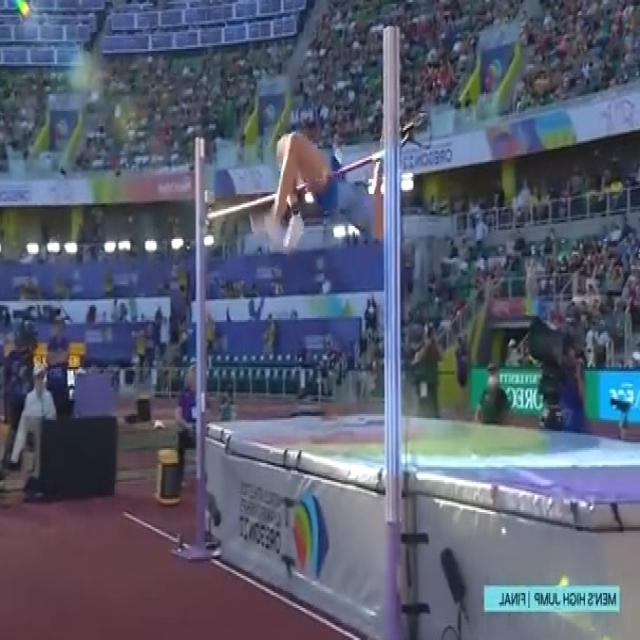jump: (252, 130, 384, 250)
